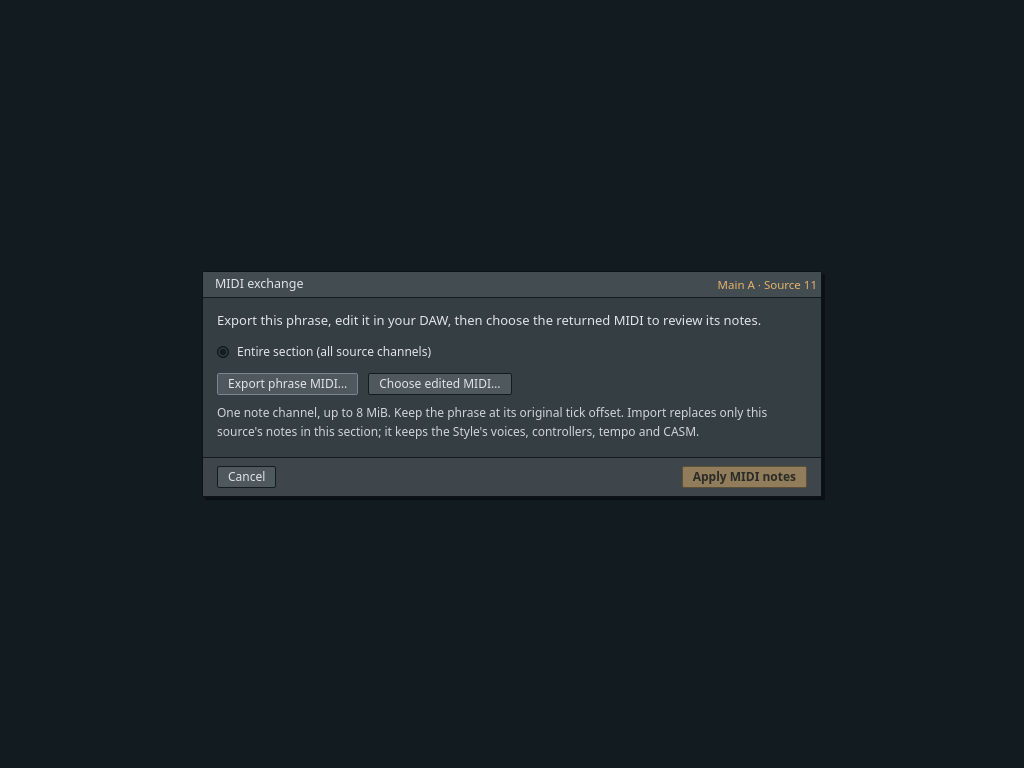
reports rejected MIDI and prevents apply; a later valid file can be reviewed
Click the button "Choose edited MIDI…" at (440, 384), box x1=368 y1=373 x2=512 y2=395
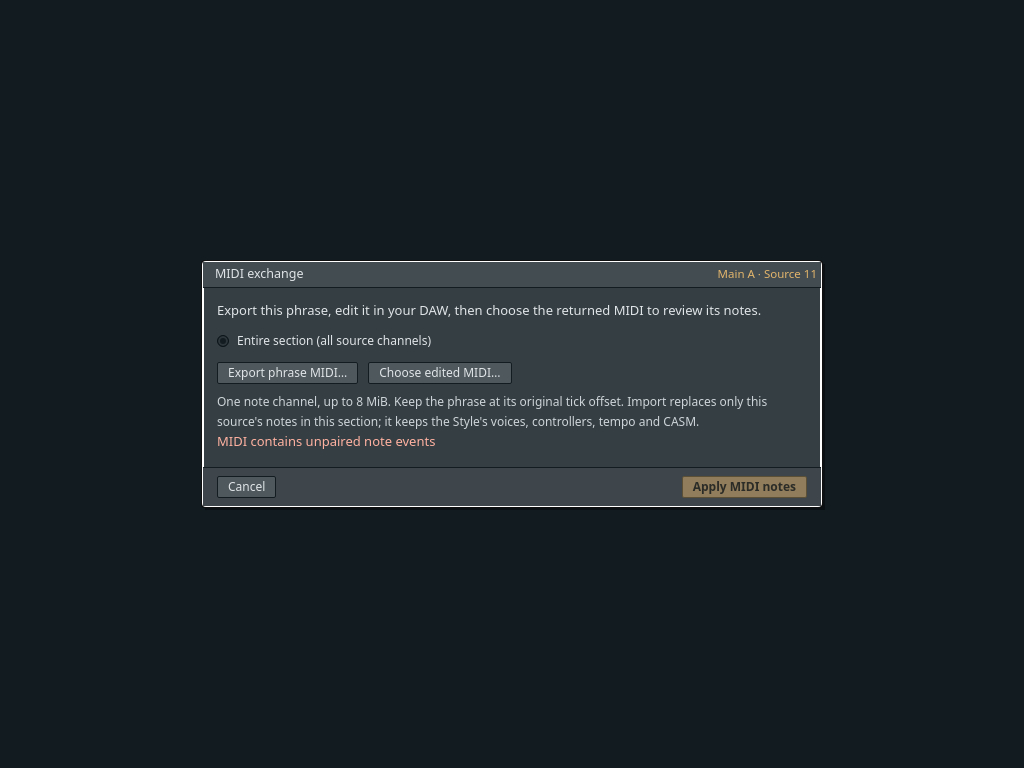
Expected: the button "Apply MIDI notes" is disabled, x1=682 y1=476 x2=807 y2=498
Now the message shows "unpaired", box x1=217 y1=432 x2=435 y2=450
Click the button "Choose edited MIDI…" at (440, 373), box x1=368 y1=362 x2=512 y2=384
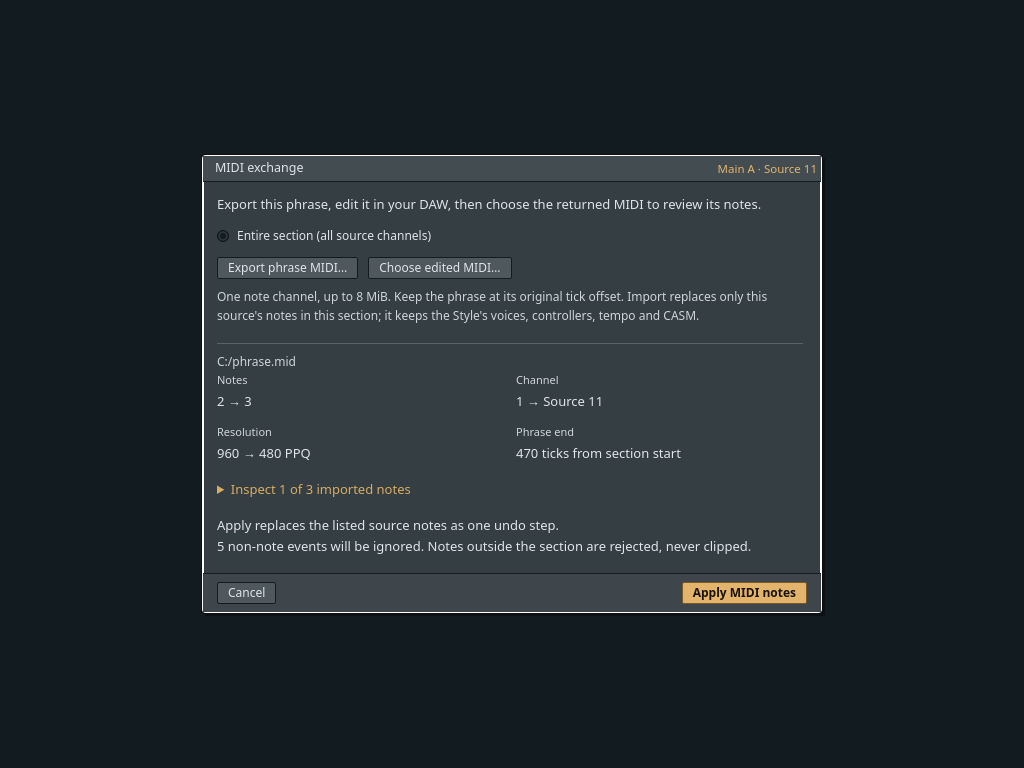
Now the element named "MIDI import preview" is shown, box x1=217 y1=343 x2=803 y2=557
Now the message "MIDI contains unpaired note events" is gone
